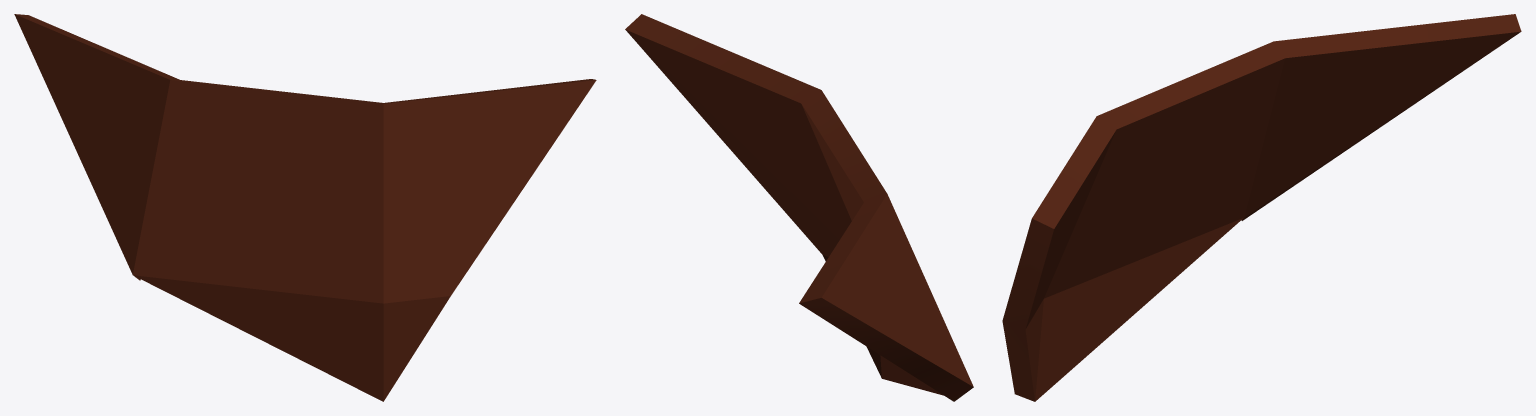
File: pot2piece4.fbx
The picture shows the model from 3 angles, left to right: view 1: azimuth 30°, elevation 25°; view 2: azimuth 150°, elevation 25°; view 3: azimuth 270°, elevation 25°; orthographic projection. The views are drawn at different scales.
Visible parts, largest first — view 1: pot2broken4; view 2: pot2broken4; view 3: pot2broken4.
Boxes of the visible parts, <box> form: pot2broken4: <box>14,14,596,401</box>; pot2broken4: <box>625,14,973,401</box>; pot2broken4: <box>1002,14,1521,401</box>.
Bounding box in the file's own units: 20.06 × 13.31 × 20.89.
